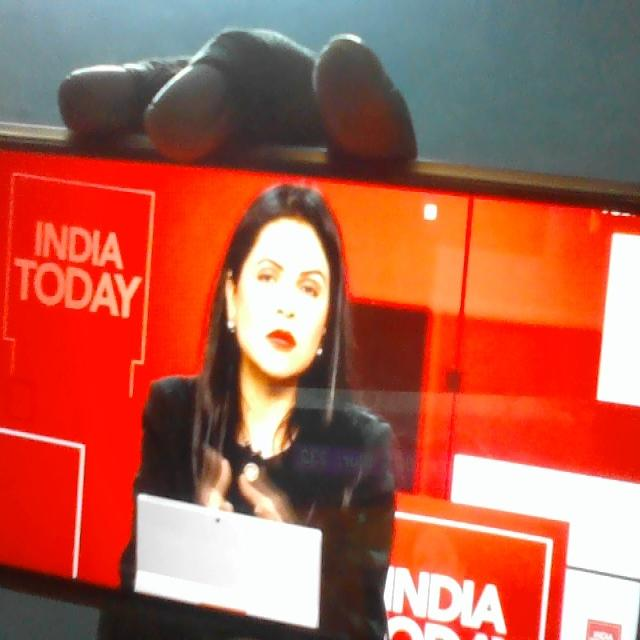fake: (211, 158, 349, 418)
